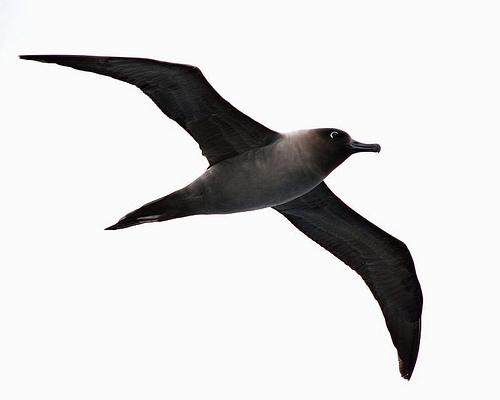bird: (18, 52, 423, 380)
